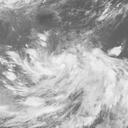cyclone: (27, 34, 115, 113)
